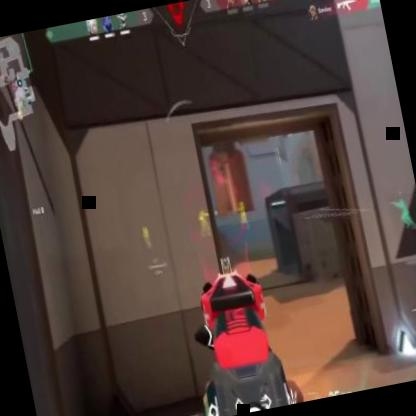enemy: (196, 208, 213, 236), (236, 199, 250, 230), (140, 224, 152, 248)
enemy_head: (238, 200, 245, 207), (199, 209, 204, 214), (142, 225, 146, 230)
